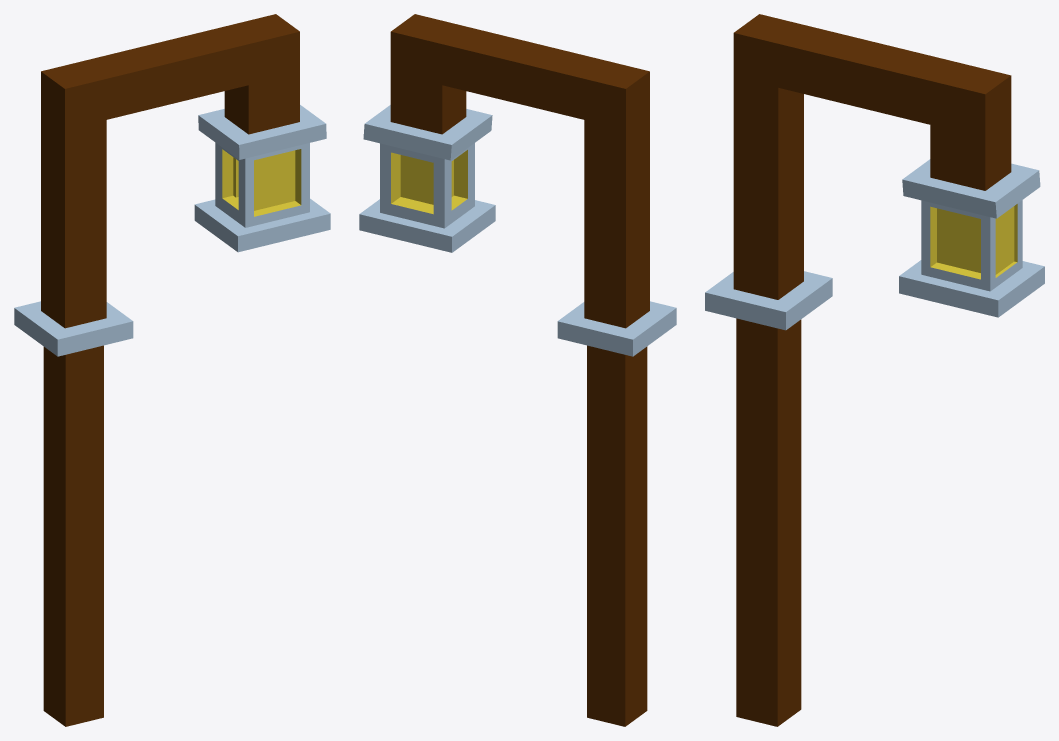
File: lampadaire.glb
3 renders of one model, left to right at view 1: azimuth 30°, elevation 25°; view 2: azimuth 150°, elevation 25°; view 3: azimuth 330°, elevation 25°, orthographic. The views are drawn at different scales.
Visible parts, largest first — view 1: Plane; view 2: Plane; view 3: Plane.
Boxes of the visible parts, left/top/right/bottom form: Plane: left=14, top=14, right=330, bottom=726; Plane: left=359, top=14, right=676, bottom=726; Plane: left=705, top=14, right=1044, bottom=726.
Size of the model in its own units: 1.32 by 2.95 by 0.3674.
